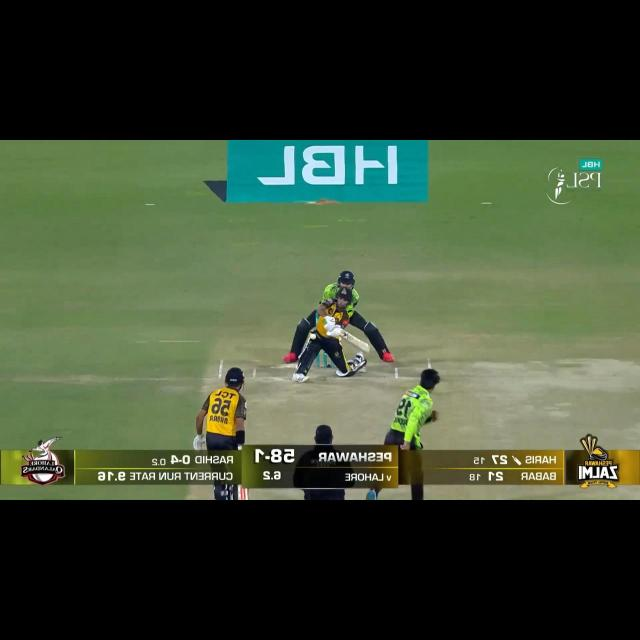bat: (338, 328, 372, 353), (236, 485, 252, 499)
toe: (364, 342, 370, 353)
